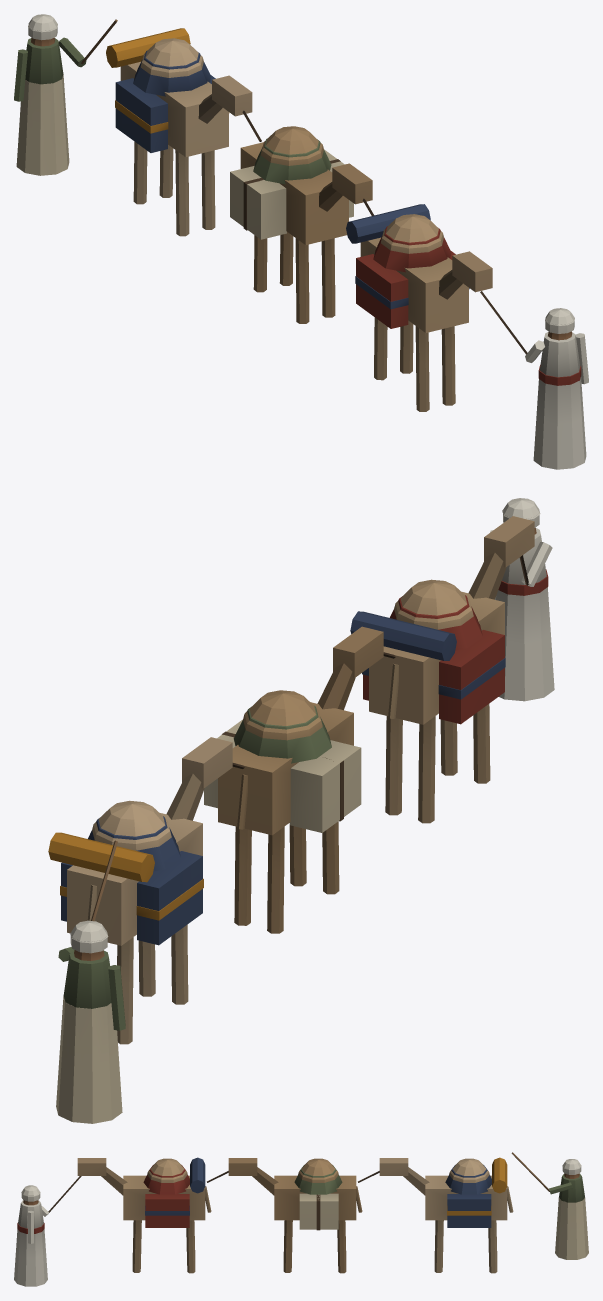
File: wagon.glb
3 renders of one model, top to bottom at view 1: azimuth 30°, elevation 25°; view 2: azimuth 150°, elevation 25°; view 3: azimuth 270°, elevation 25°, orthographic. The views are drawn at different scales.
Parts seen in each view (by area): view 1: base; view 2: base; view 3: base.
Part boxes in pixels (bbox=[...]): base: bbox=[14, 14, 588, 469]; base: bbox=[48, 498, 554, 1123]; base: bbox=[14, 1152, 588, 1286].
Size of the model in its own units: 1.67 by 1.91 by 9.14.
